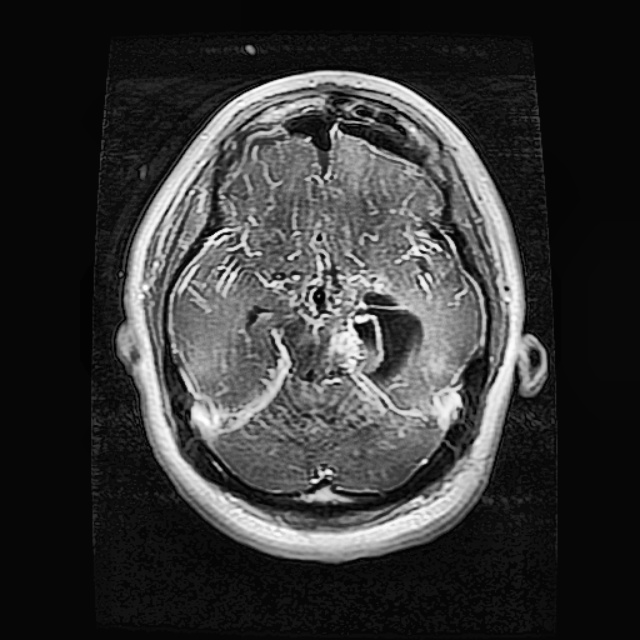Meningioma: (284, 272, 434, 397)
